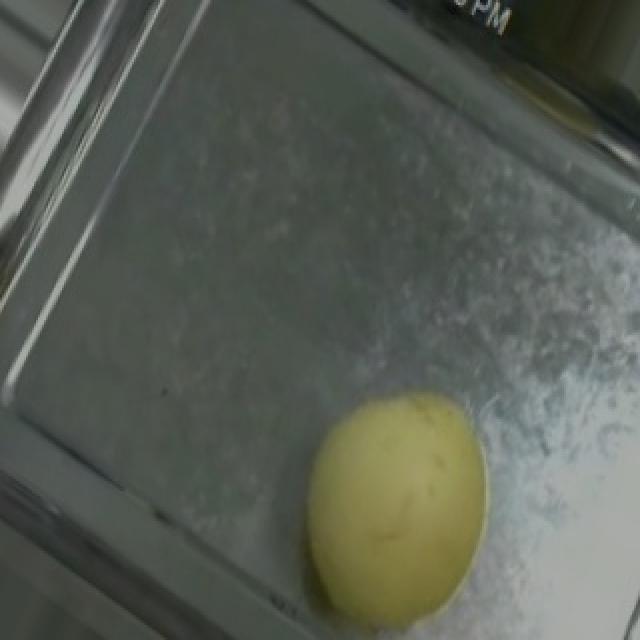Fruit: (254, 347, 532, 640)
